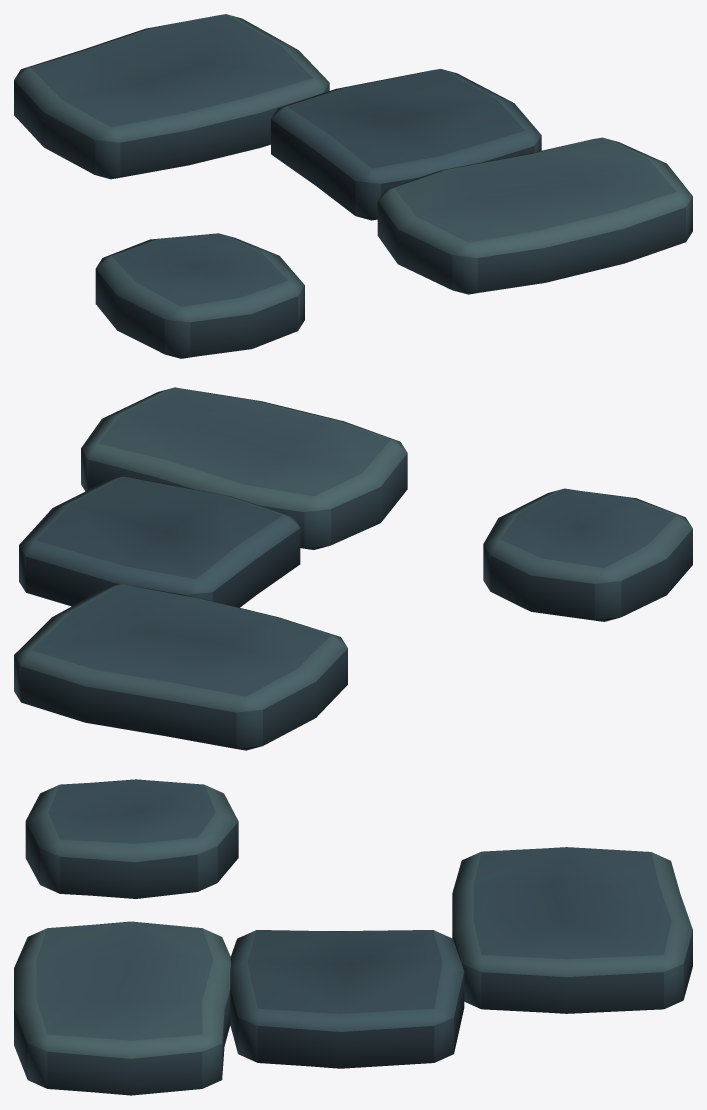
The model's file is stone_path_7_LOD_setup.fbx.
The picture shows the model from 3 angles, top to bottom: view 1: azimuth 30°, elevation 25°; view 2: azimuth 150°, elevation 25°; view 3: azimuth 270°, elevation 25°; orthographic projection. The views are drawn at different scales.
Visible parts, largest first — view 1: stone_path_7_LOD0; view 2: stone_path_7_LOD0; view 3: stone_path_7_LOD0.
Boxes of the visible parts, x1,y1,x2,y2 form: stone_path_7_LOD0: [14, 14, 692, 358]; stone_path_7_LOD0: [14, 387, 692, 750]; stone_path_7_LOD0: [14, 779, 692, 1095].
Size of what is drawn, in the model's own units: 201 by 18.28 by 207.
